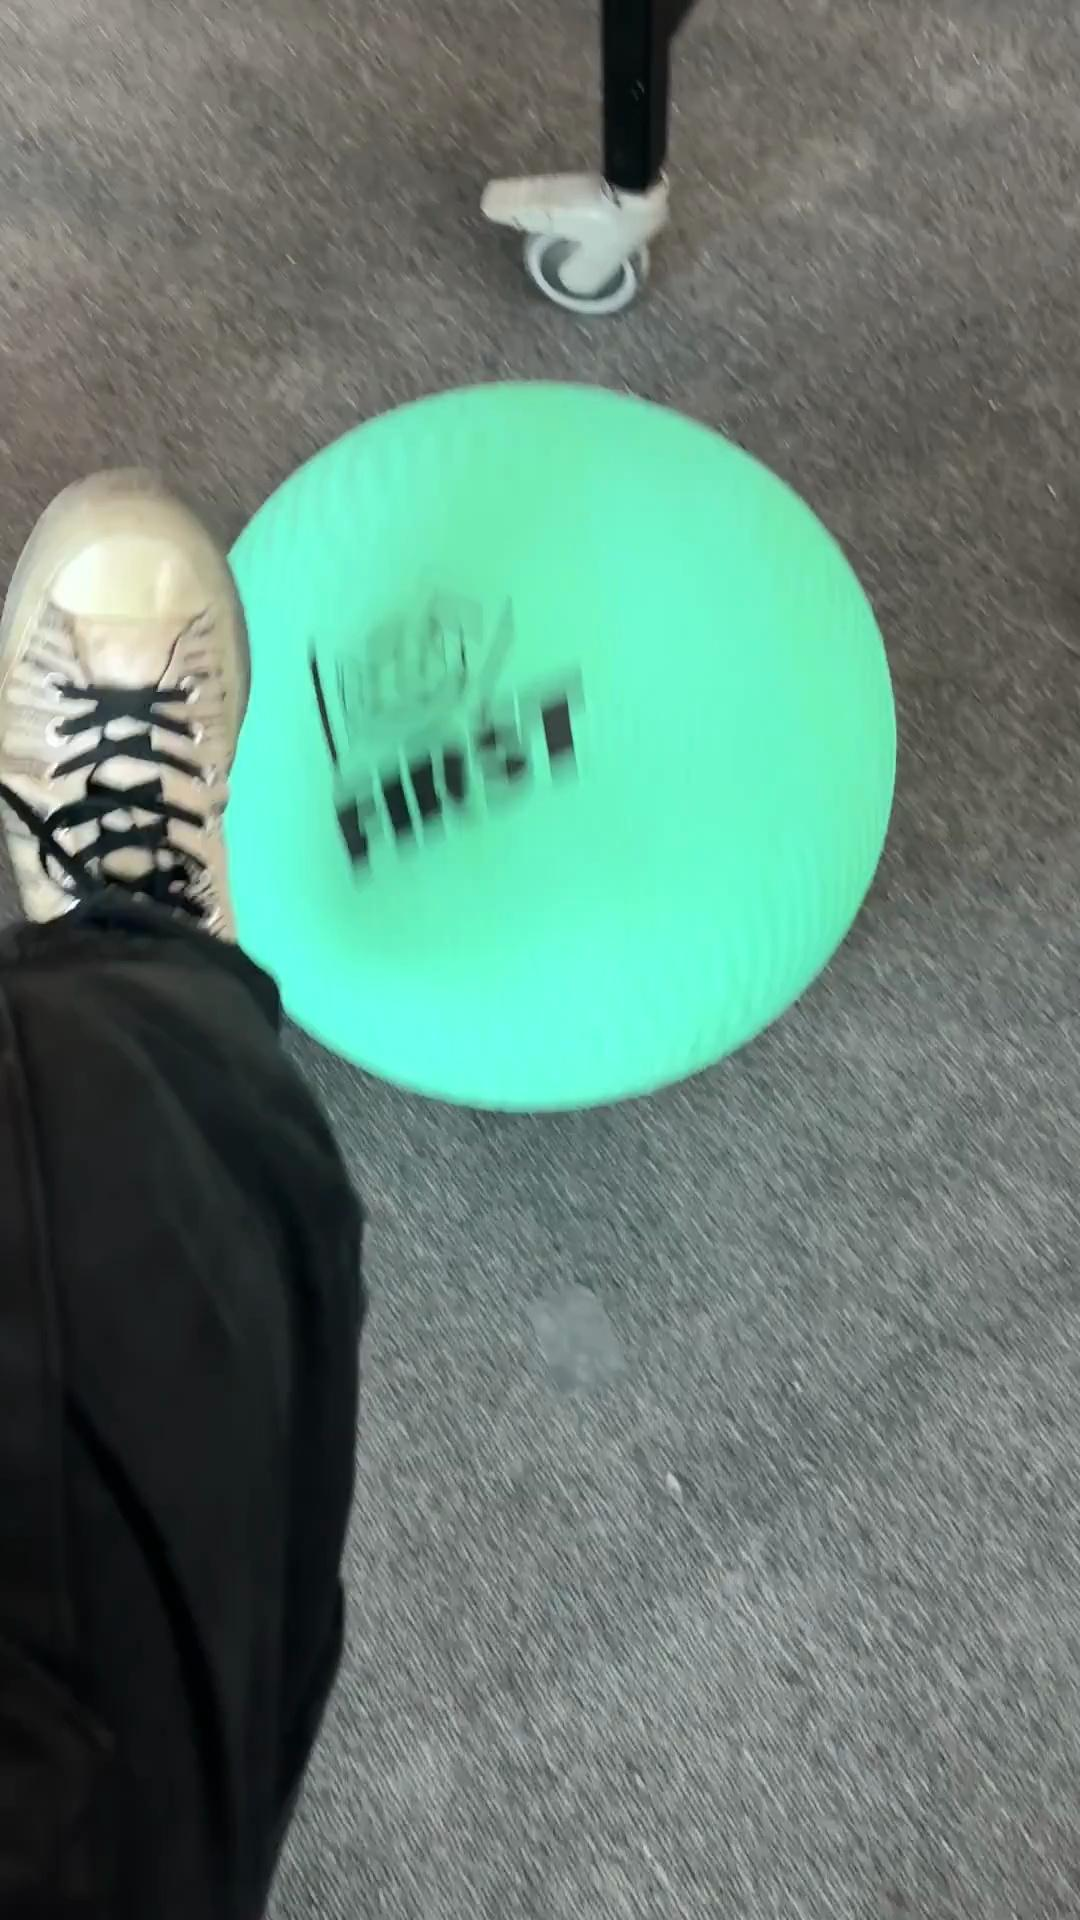ALGAE: (220, 376, 899, 1116)
